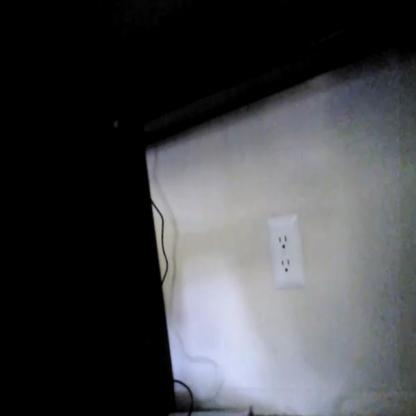OUTLET: (268, 216, 302, 288)
